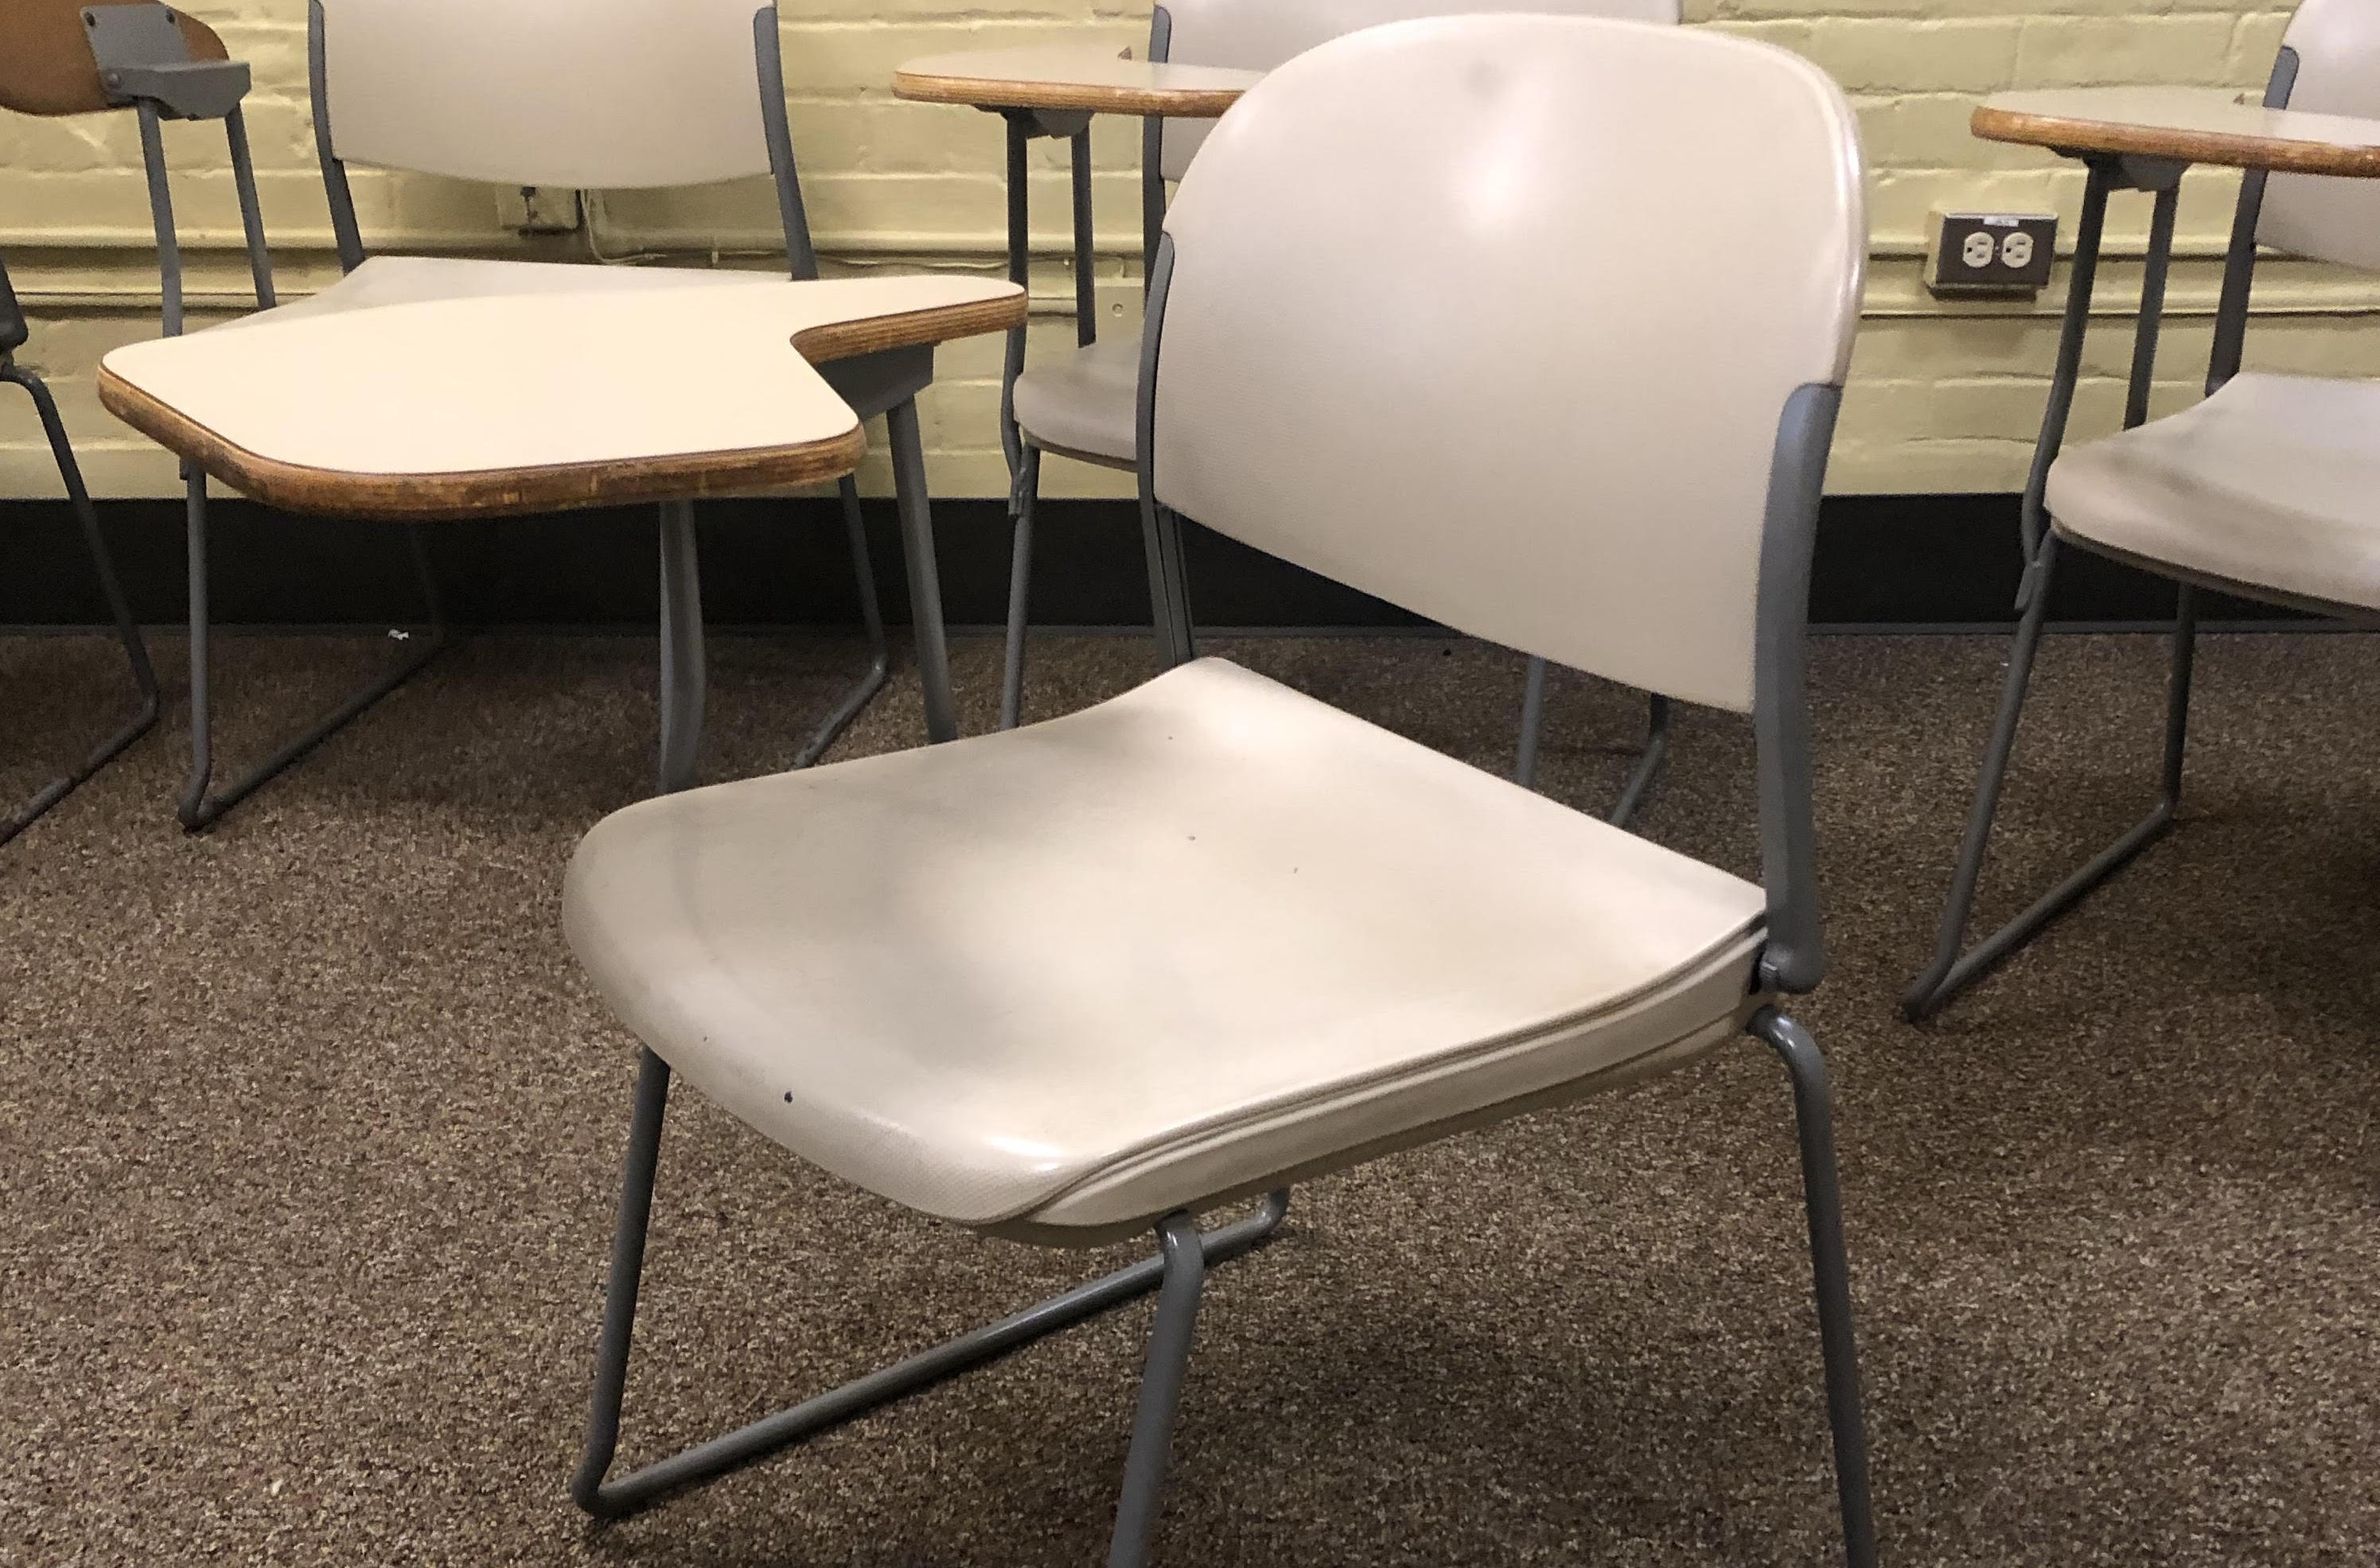desk: (63, 2, 1911, 1531)
